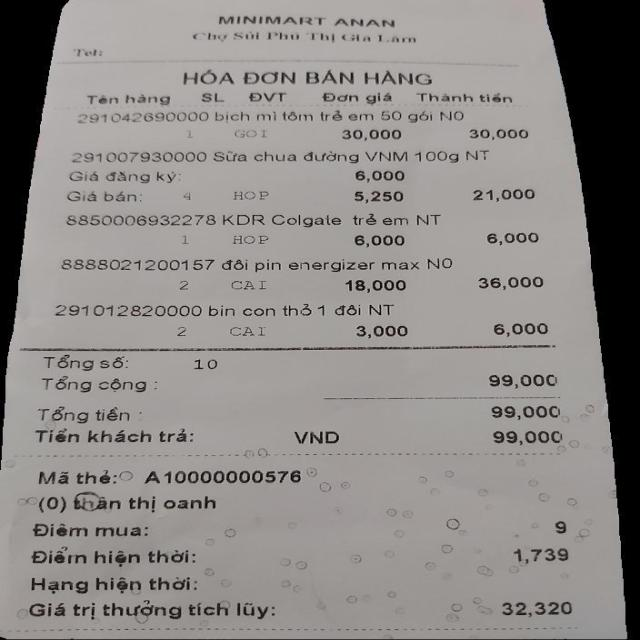Store_Name: (210, 13, 400, 30)
amount_number: (481, 402, 564, 421)
label_total: (30, 406, 134, 425)
